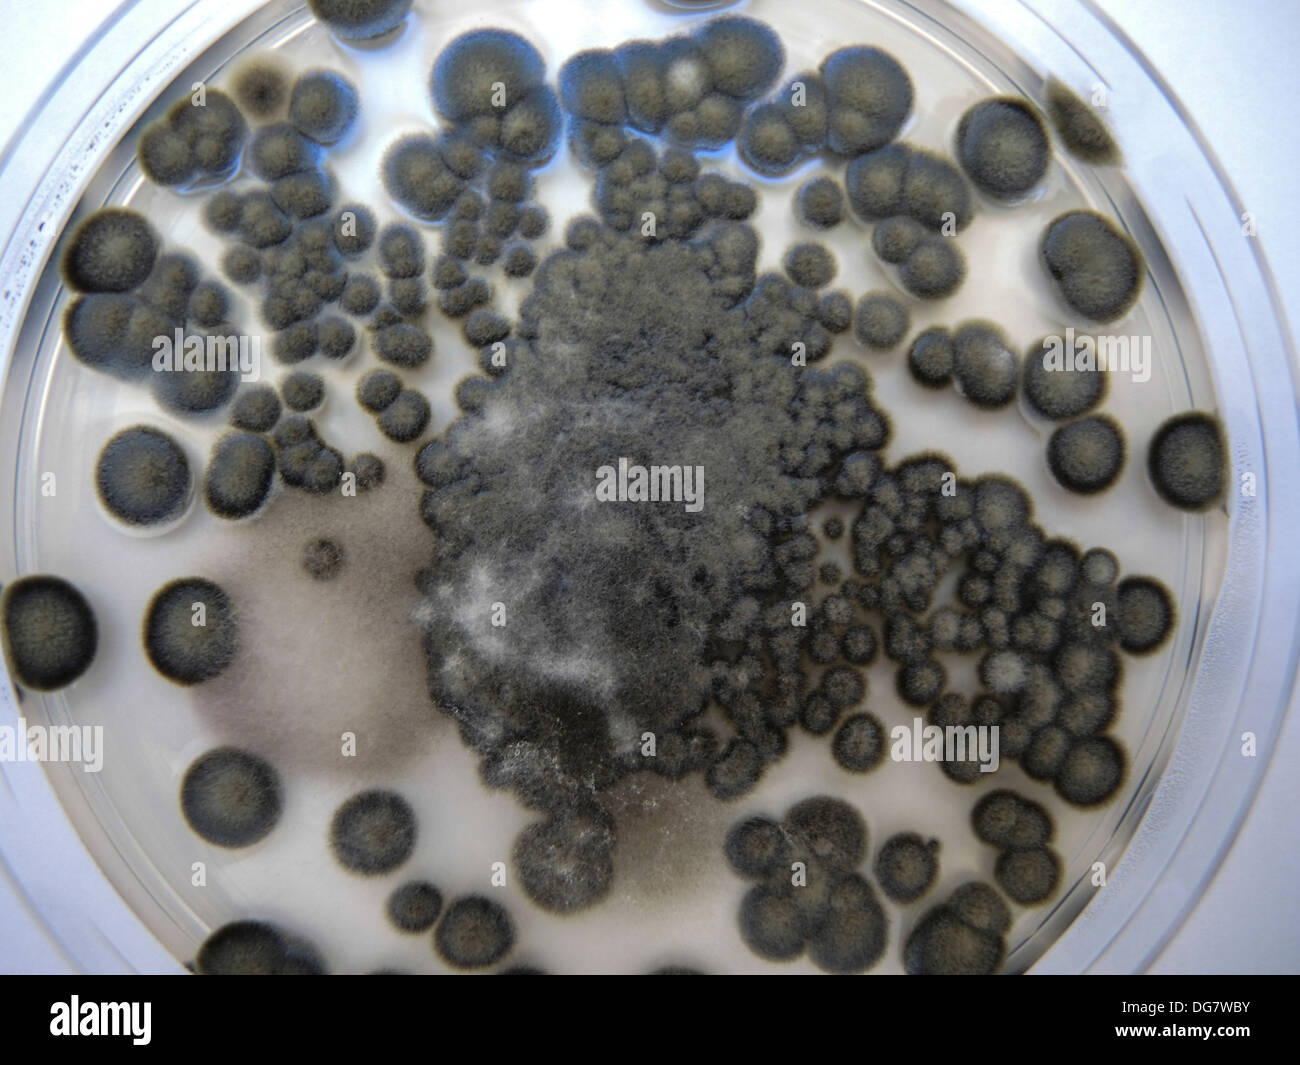Cladosporium: (424, 440, 742, 778), (312, 791, 527, 976), (554, 40, 816, 183), (211, 542, 406, 716), (411, 48, 569, 243), (863, 523, 1041, 648), (898, 323, 1019, 410), (959, 108, 1044, 196), (182, 765, 277, 840)
